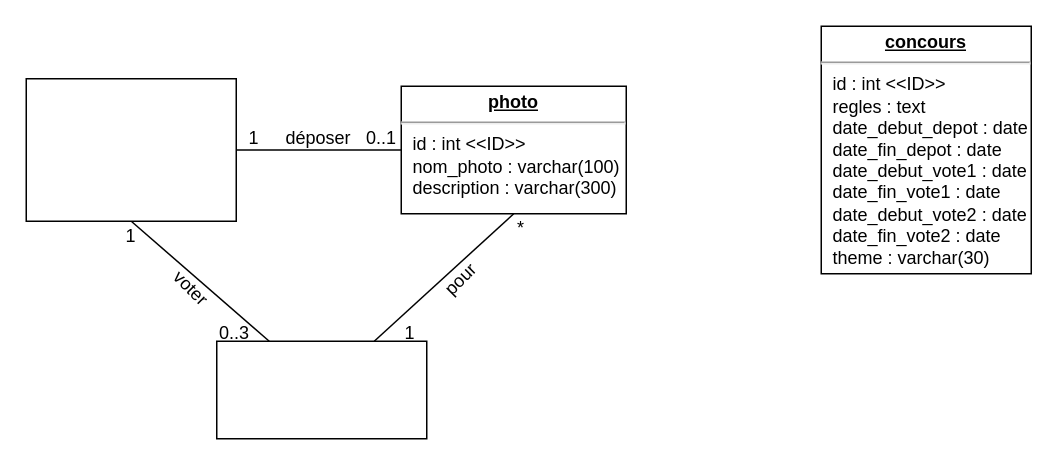
The diagram is 1058 pixels wide and 465 high, and some of its shapes have lost their labels. The centre of each missing label's shape, as x and y in pixels:
"User id : int <<ID>> nom : varchar(30) prenom : varchar (50) admin : boolean" belongs at point 130,149.
"Vote id : int <<ID>> tour : int" belongs at point 321,389.
